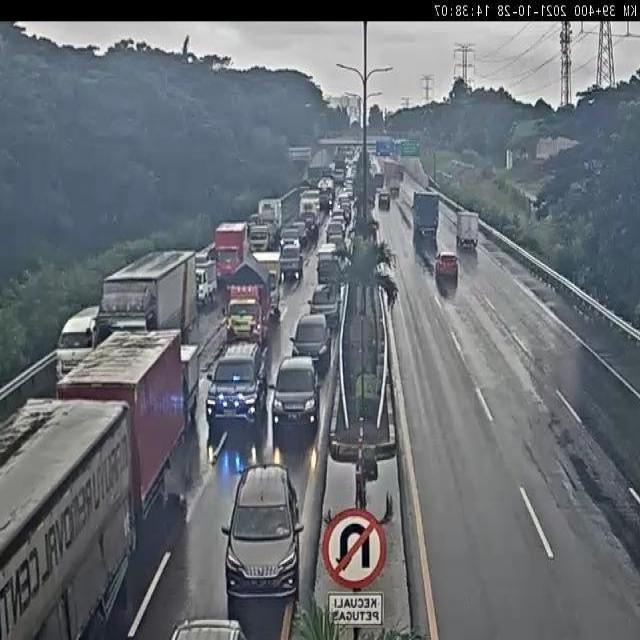Car: (221, 460, 303, 628), (207, 343, 269, 434), (268, 354, 320, 440), (288, 312, 330, 374), (182, 341, 202, 426), (307, 284, 341, 330), (316, 242, 345, 284), (279, 240, 302, 282), (435, 252, 459, 292), (258, 198, 282, 234), (248, 220, 274, 253), (279, 226, 303, 256), (317, 176, 335, 207), (300, 208, 317, 236), (326, 220, 344, 246), (196, 242, 217, 262), (338, 189, 353, 216), (388, 176, 401, 198), (378, 191, 391, 210), (247, 213, 261, 230), (373, 172, 384, 192), (370, 162, 380, 183), (329, 162, 338, 175)
Truck: (0, 395, 139, 640), (93, 250, 197, 346), (222, 252, 272, 338), (214, 222, 249, 284), (413, 192, 439, 247), (456, 210, 479, 250)
Van: (55, 304, 101, 379)
